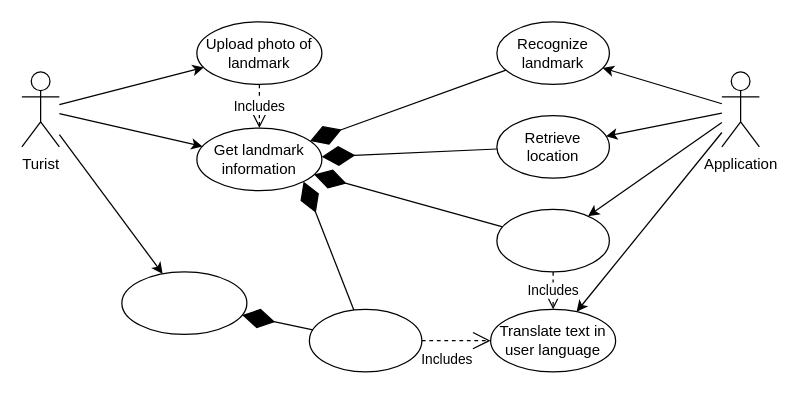
This 799x394 diagram has some shape labels left out. The box of each missing label's shape, as (x1, y1, x2, y2) in pixels:
Display landmark details: (496, 208, 609, 272)
Generate voice guide: (308, 308, 422, 372)
Upload photo of text: (121, 271, 247, 334)
